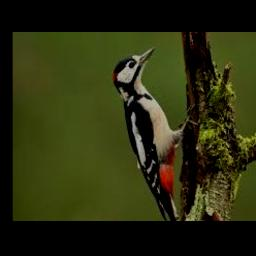Woodpecker: (114, 46, 200, 221)
